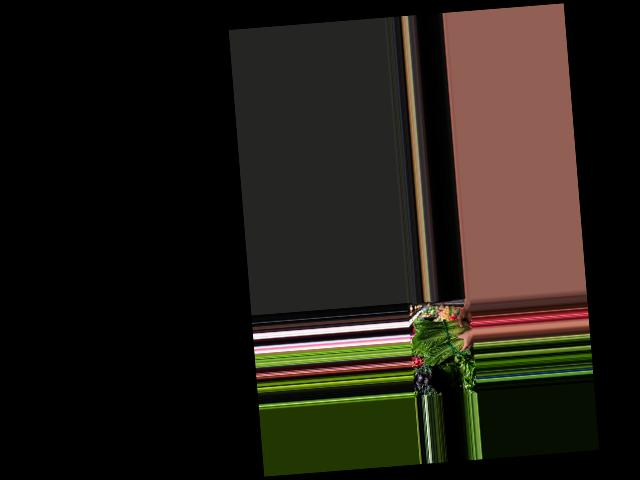lettuce: (413, 316, 476, 367)
